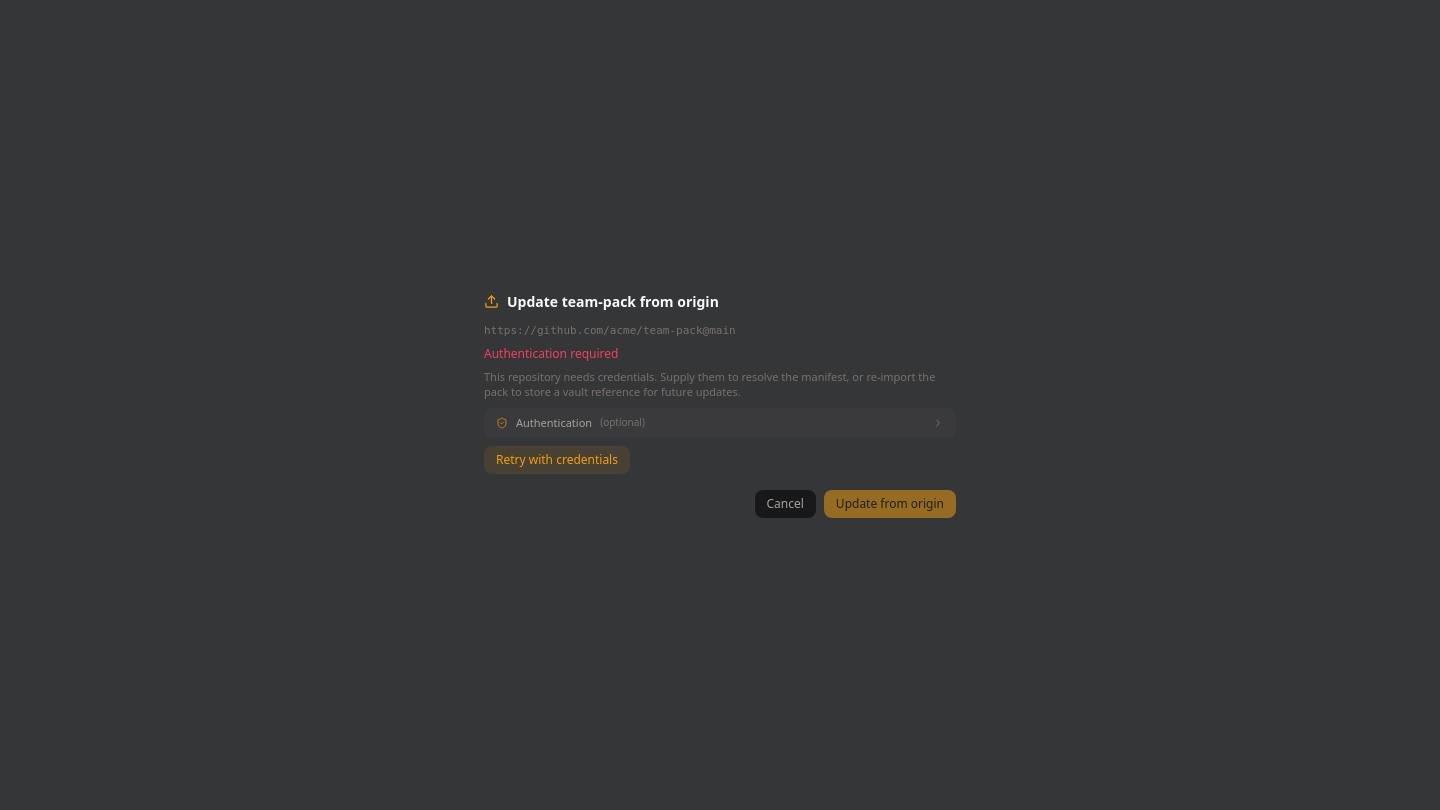
Test: PackUpdateDialog › retries the preview with the credential the user supplied
Expected: the button "Retry with credentials" is shown, left=484, top=446, right=630, bottom=474
Click the button "Authentication (optional)": (554, 422) left=484, top=408, right=956, bottom=438
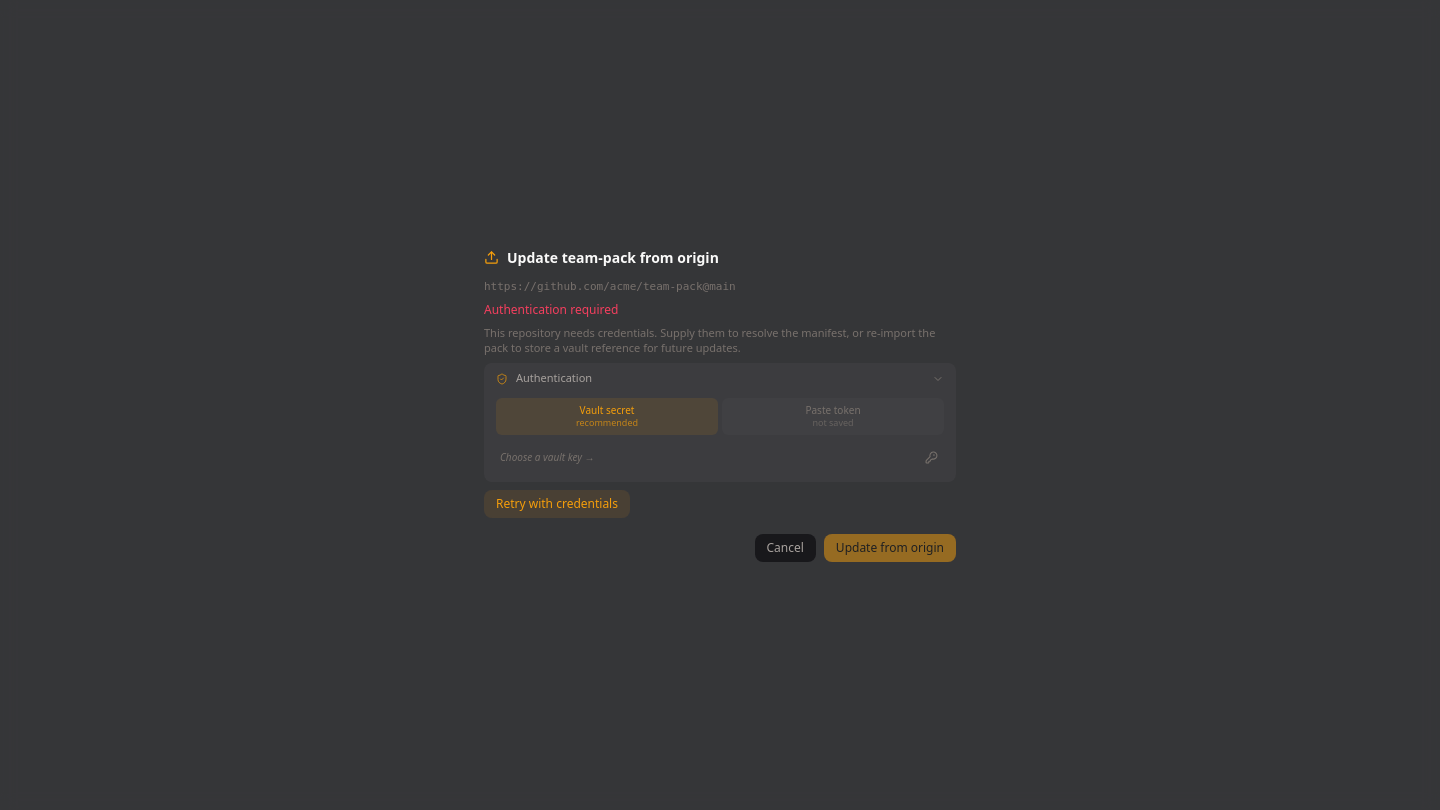
Click the radio button labelled "Paste token not saved": (833, 417) left=722, top=398, right=944, bottom=435
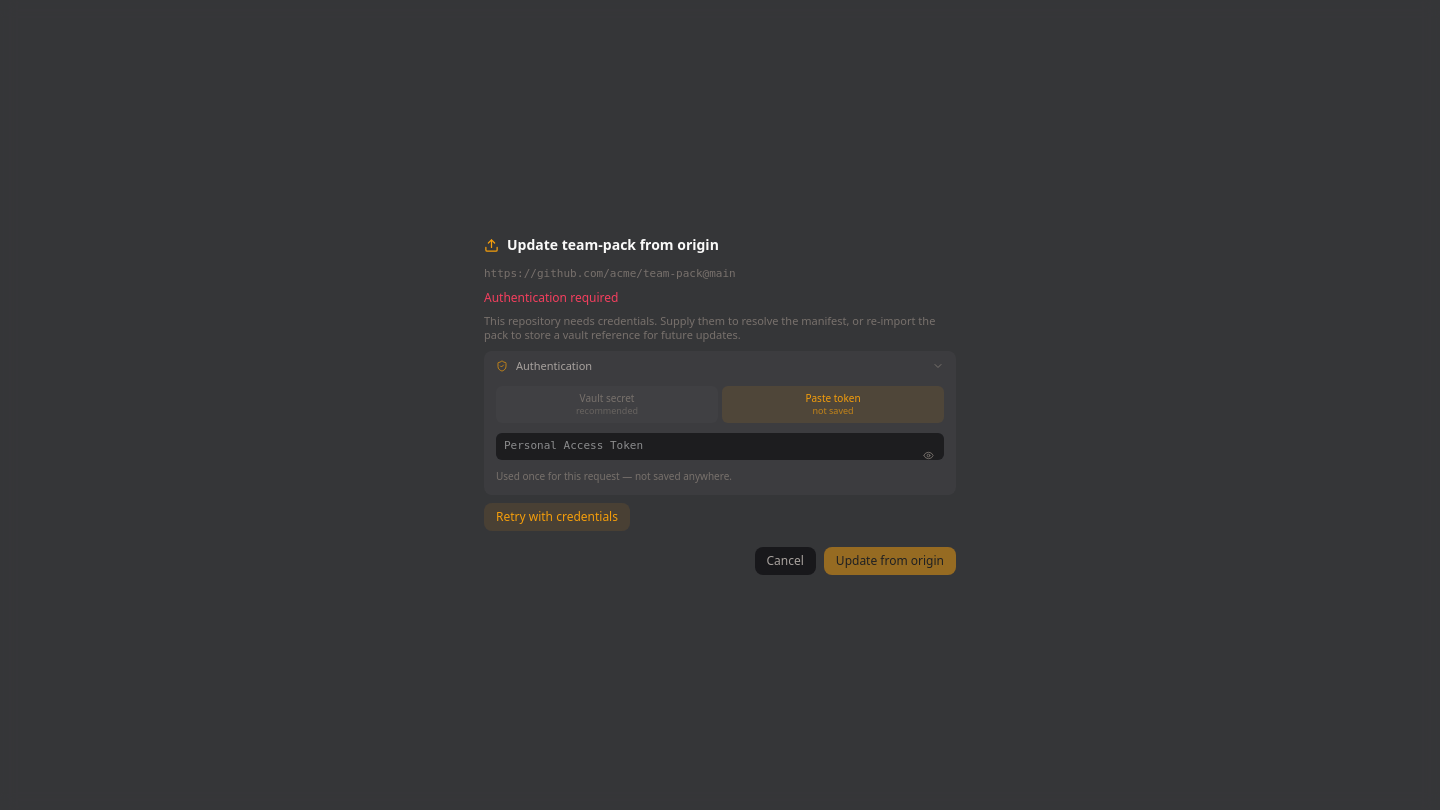
In the password field with placeholder "Personal Access Token": (720, 446) left=496, top=433, right=944, bottom=460, type "ghp_dialog"
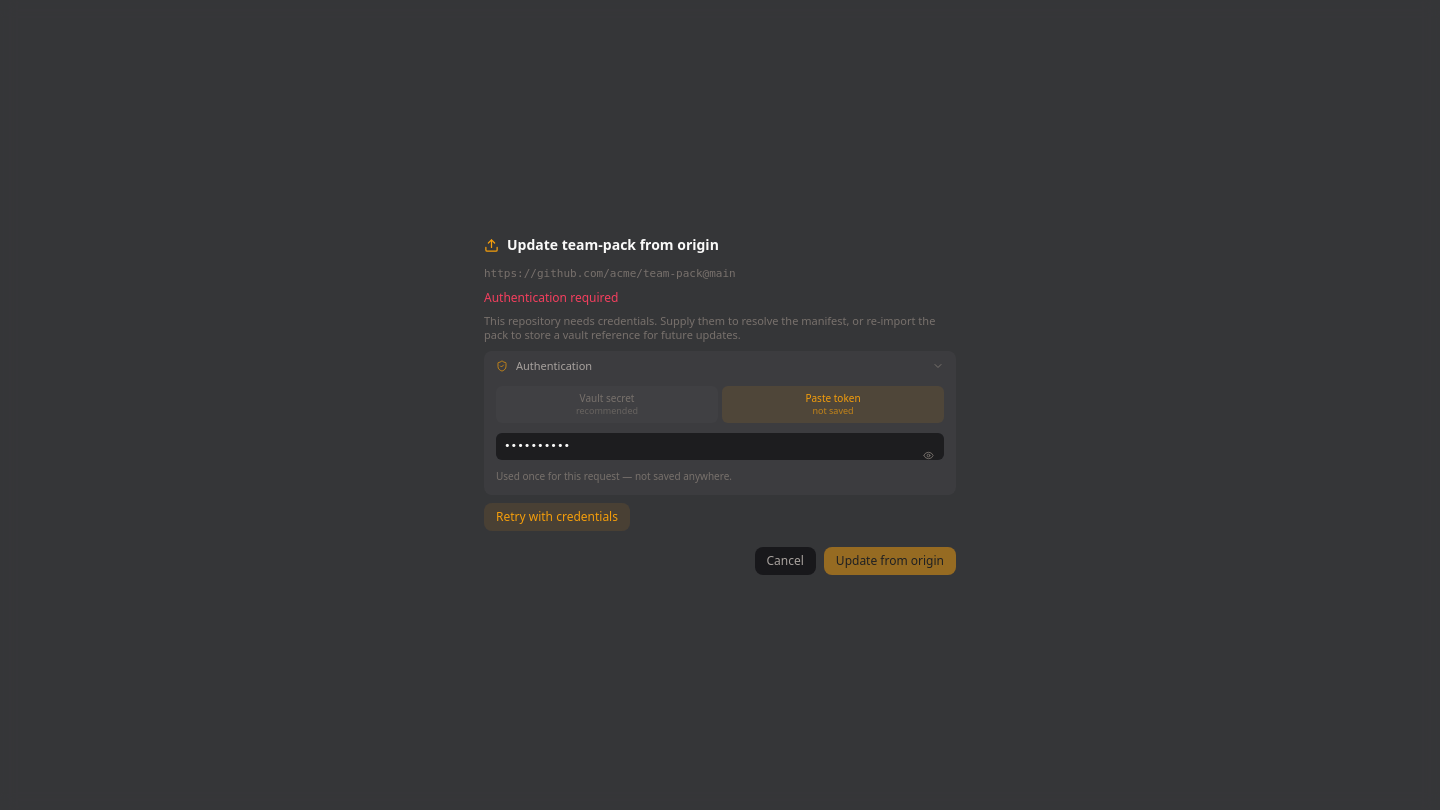
Click the button "Retry with credentials": (557, 517) left=484, top=503, right=630, bottom=531
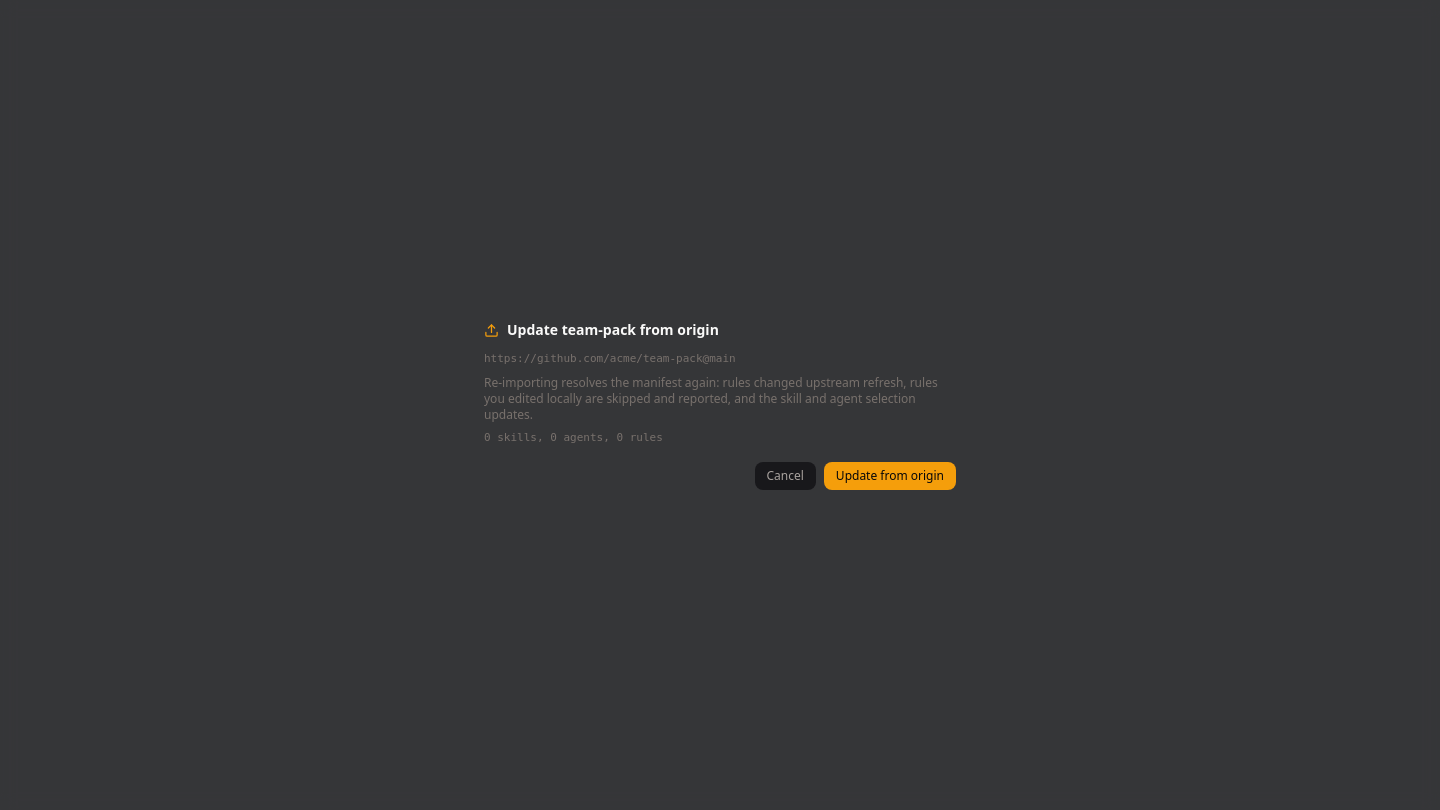
Now the text "0 skills, 0 agents, 0 rules" is shown, box left=484, top=431, right=663, bottom=444
Now the button "Update from origin" is enabled, box left=824, top=462, right=956, bottom=490
